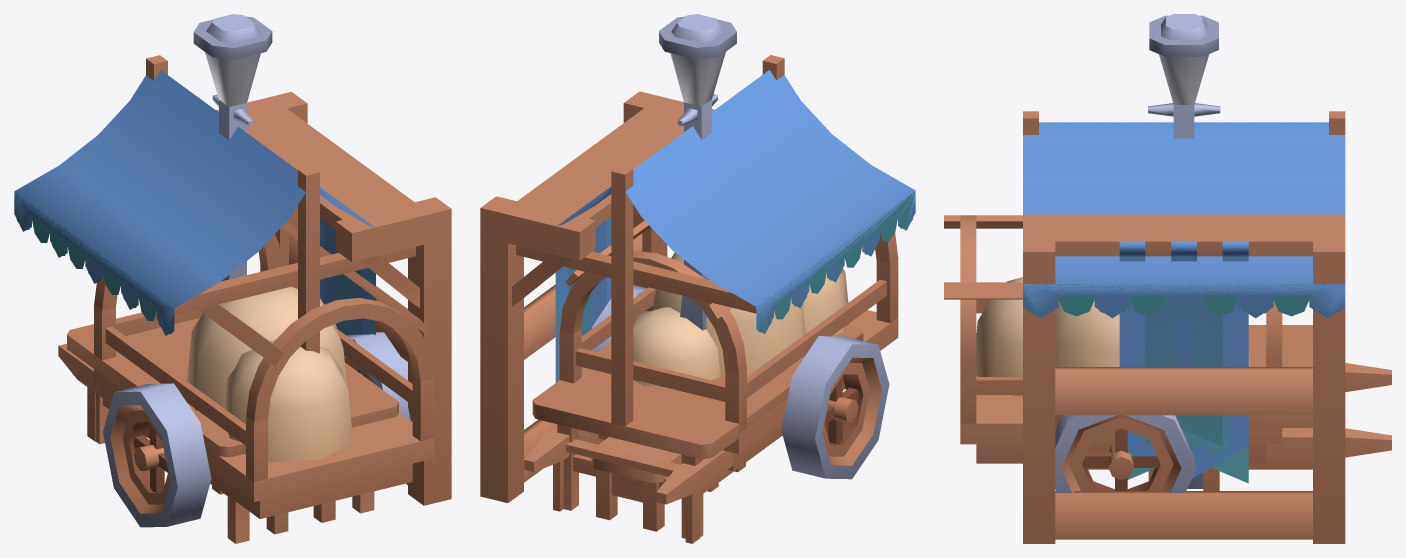
Rendered from town-market.glb.
3 views of the same model, side by side, from view 1: azimuth 30°, elevation 25°; view 2: azimuth 150°, elevation 25°; view 3: azimuth 270°, elevation 25° (orthographic).
Parts seen in each view (by area): view 1: stall_awning_blue_part0, cart_high_part0, cart_part0, overhang_part0, cart_part2, poles_part0, stall_part0, lantern_part0, stall_awning_teal_part0, banner_blue_part0, cart_part1, banner_teal_part0 (+2 smaller); view 2: stall_awning_blue_part0, cart_part0, cart_high_part0, stall_part0, poles_part0, overhang_part0, cart_part2, lantern_part0, stall_bench_part0, stall_awning_teal_part0, poles_horizontal_part0, banner_blue_part0 (+1 smaller); view 3: stall_awning_blue_part0, poles_horizontal_part0, poles_part0, cart_high_part0, banner_blue_part0, overhang_part0, cart_part0, banner_teal_part0, cart_part1, lantern_part0, stall_awning_teal_part0, stall_part0 (+1 smaller).
Part boxes in pixels (x1,y1,x2,y2): stall_awning_blue_part0: (14,55,415,353); cart_high_part0: (94,221,434,481); cart_part0: (58,265,434,518); overhang_part0: (216,98,423,308); cart_part2: (103,383,211,527); poles_part0: (264,92,451,505); stall_part0: (67,312,398,543); lantern_part0: (193,14,272,484); stall_awning_teal_part0: (14,192,174,333); banner_blue_part0: (320,218,375,372); cart_part1: (344,332,410,420); banner_teal_part0: (320,218,375,375); stall_awning_blue_part0: (516,55,915,426); cart_part0: (524,258,898,543); cart_high_part0: (559,220,898,387); stall_part0: (532,325,863,538); poles_part0: (480,91,667,502); overhang_part0: (508,98,714,306); cart_part2: (781,336,889,479); lantern_part0: (659,14,736,481); stall_bench_part0: (591,437,681,531); stall_awning_teal_part0: (756,192,914,332); poles_horizontal_part0: (524,217,650,482); banner_blue_part0: (555,217,611,382); stall_awning_blue_part0: (1023,111,1345,318); poles_horizontal_part0: (1055,367,1312,539); poles_part0: (1023,238,1345,543); cart_high_part0: (944,215,1282,396); banner_blue_part0: (1119,241,1248,478); overhang_part0: (1023,214,1345,256); cart_part0: (960,299,1391,463); banner_teal_part0: (1119,256,1248,483); cart_part1: (1055,415,1196,492); lantern_part0: (1148,14,1220,488); stall_awning_teal_part0: (1023,284,1344,316); stall_part0: (1055,325,1312,469).
Size of the model in its own units: 1 by 1.56 by 1.39.
Materials: 1 (1 with a texture image).
